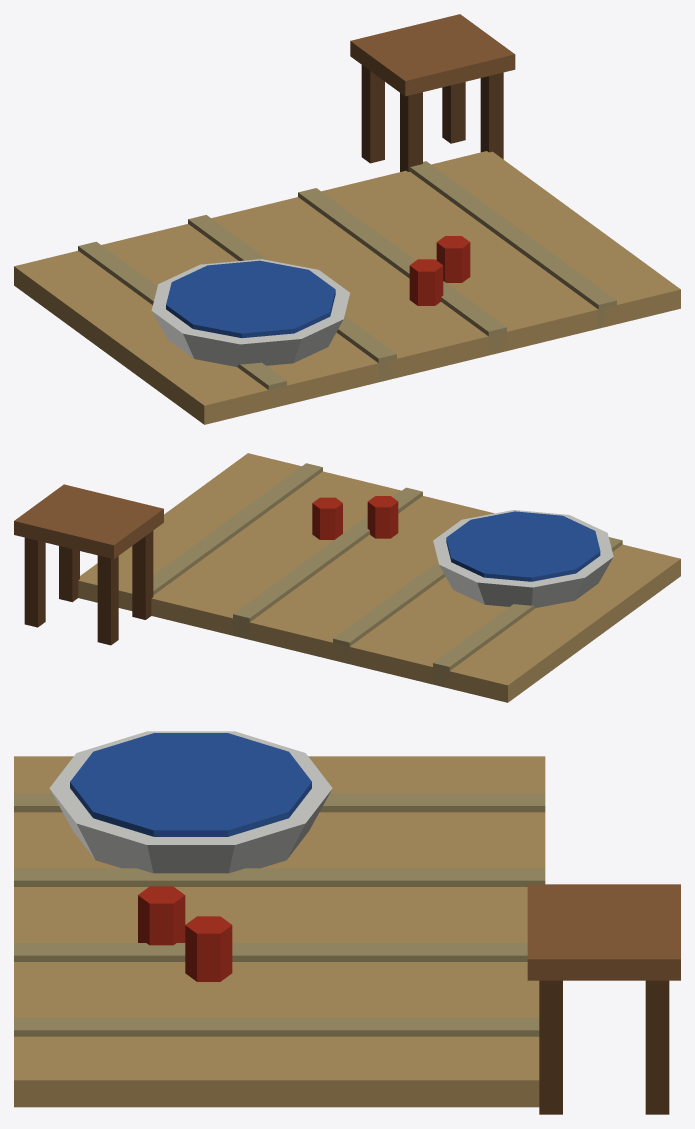
Rendered from prop_mat-stool.bd734a8f675f.glb.
3 renders of one model, top to bottom at view 1: azimuth 30°, elevation 25°; view 2: azimuth 150°, elevation 25°; view 3: azimuth 270°, elevation 25°, orthographic. The views are drawn at different scales.
Parts seen in each view (by area): view 1: body; view 2: body; view 3: body.
Boxes of the visible parts, <box> form: body: <box>14,14,680,424</box>; body: <box>14,453,680,702</box>; body: <box>14,731,680,1114</box>.
Size of the model in its own units: 1.35 by 0.3 by 1.13.
